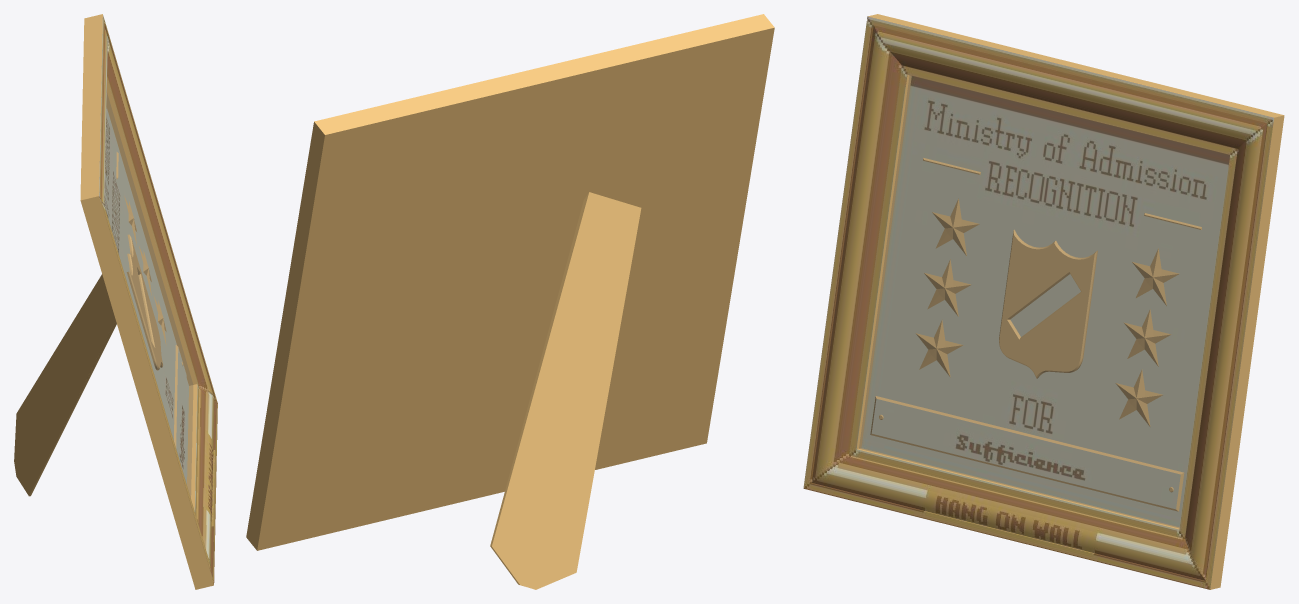
Rendered from Certificate.fbx.
3 views of the same model, side by side, from view 1: azimuth 30°, elevation 25°; view 2: azimuth 150°, elevation 25°; view 3: azimuth 270°, elevation 25° (orthographic). The views are drawn at different scales.
Parts seen in each view (by area): view 1: Marco; view 2: Marco; view 3: Marco.
Part boxes in pixels (<box>): Marco: <box>14,14,217,589</box>; Marco: <box>246,14,774,589</box>; Marco: <box>803,14,1284,589</box>.
Size of the model in its own units: 23.12 by 30.07 by 30.41.
